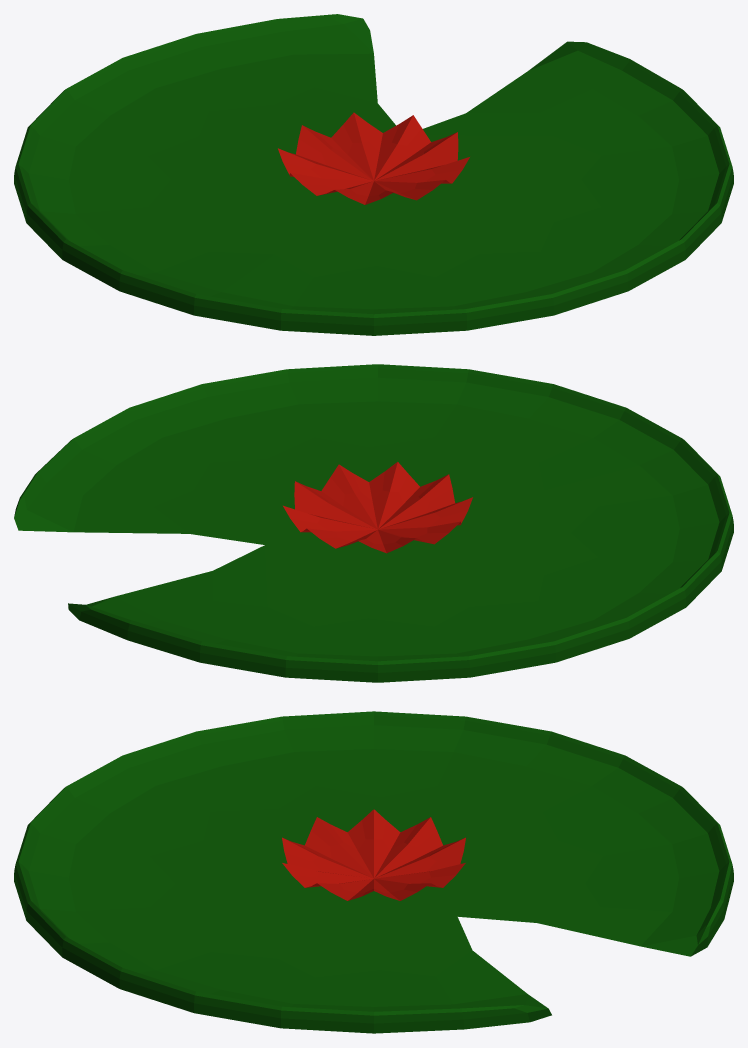
The model's file is Farmi_LumpeenLehti.fbx.
The picture shows the model from 3 angles, top to bottom: view 1: azimuth 30°, elevation 25°; view 2: azimuth 150°, elevation 25°; view 3: azimuth 270°, elevation 25°; orthographic projection.
Visible parts, largest first — view 1: Circle; view 2: Circle; view 3: Circle.
Part boxes in pixels (bbox=[...]): Circle: bbox=[14, 14, 733, 335]; Circle: bbox=[14, 364, 733, 682]; Circle: bbox=[14, 711, 733, 1033].
Bounding box in the file's own units: 19.64 × 0.9455 × 19.64.
